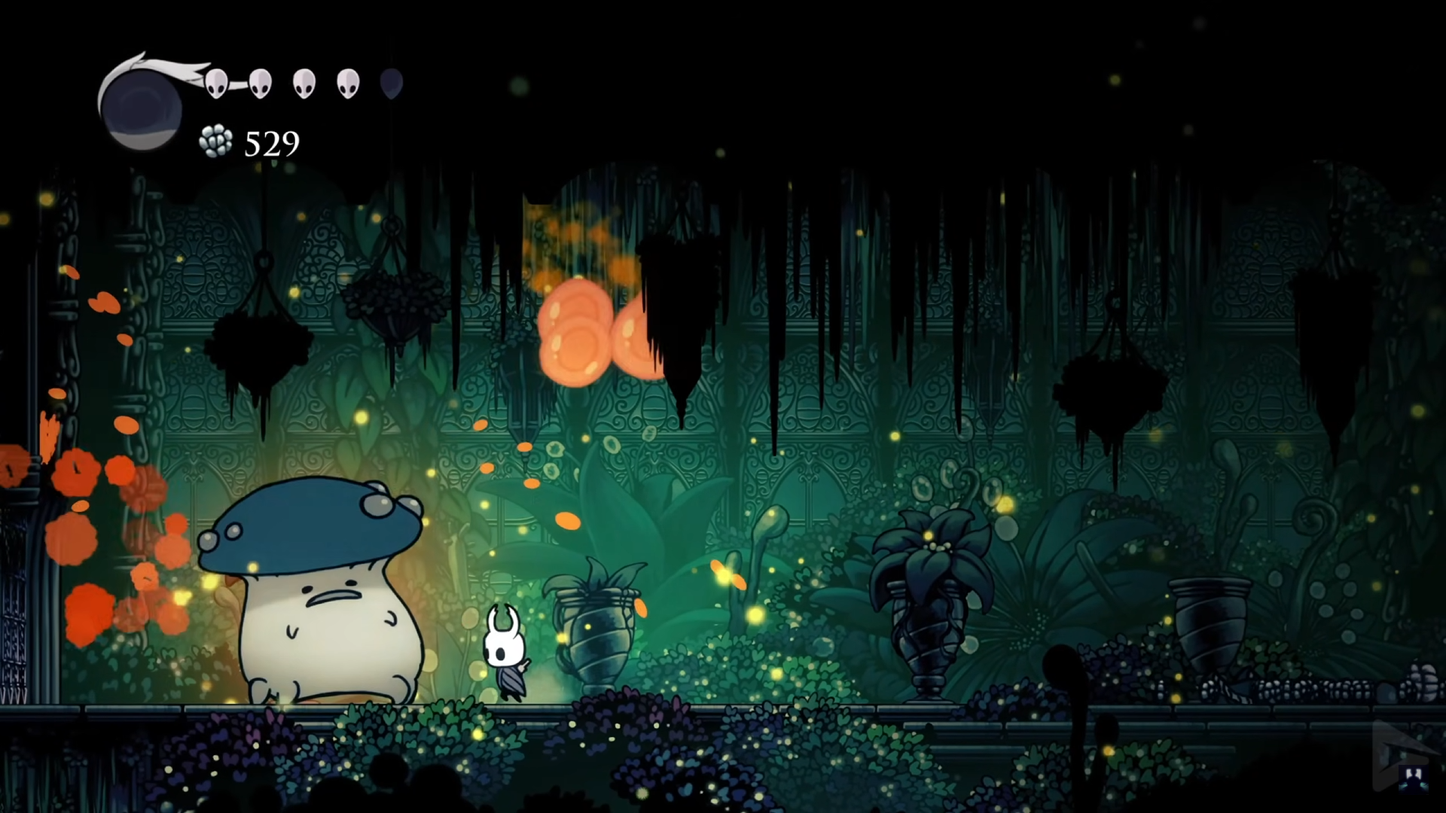HK: (476, 599, 533, 706)
